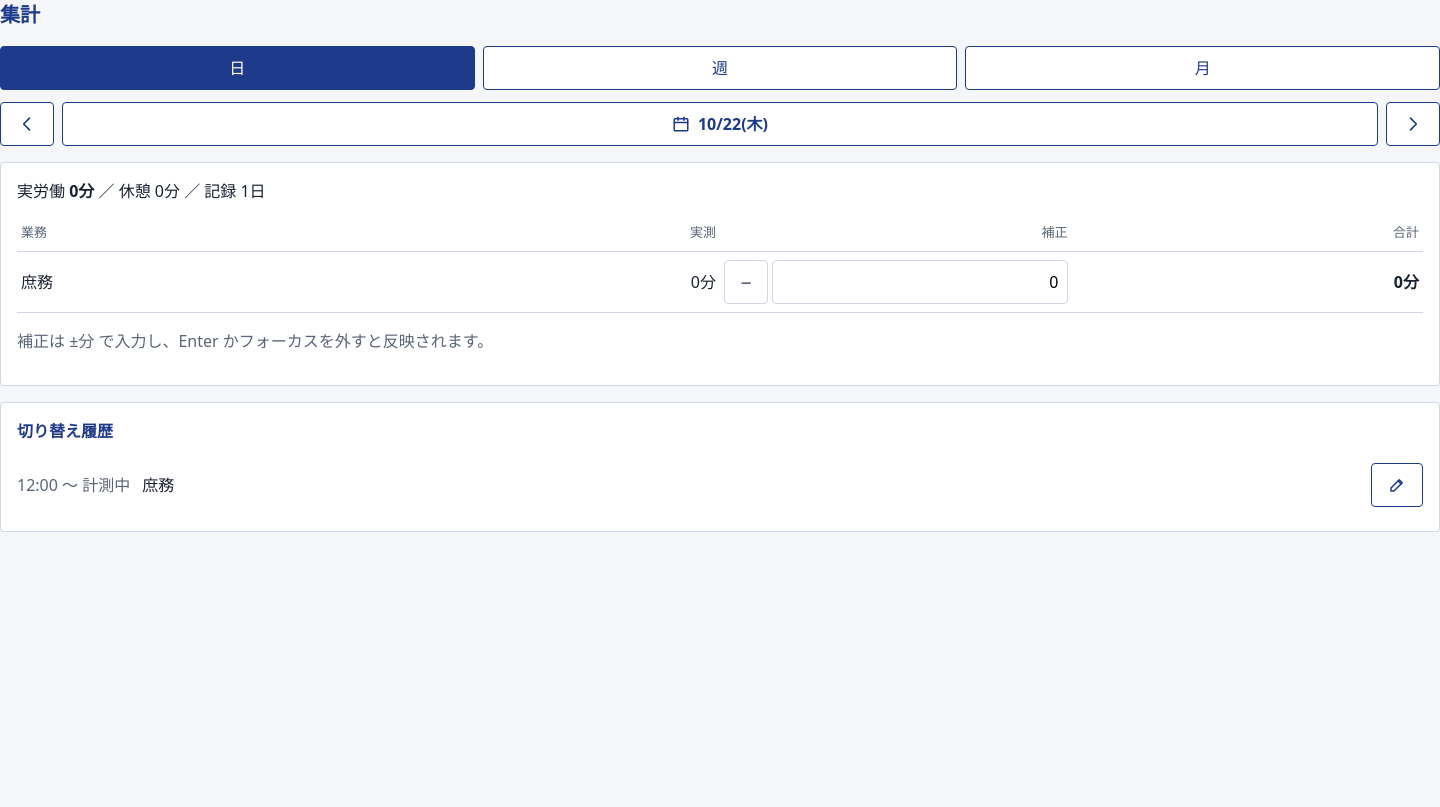
Test: SummaryScreen › カレンダー › 今日の月では「次の月」を押せず、「前の月」で月が変わる
The image size is (1440, 807).
What coordinates should you click on to do the following:
click the button "10/22(木)"
I would click on:
 (720, 124)
Its box is [62,102,1378,146].
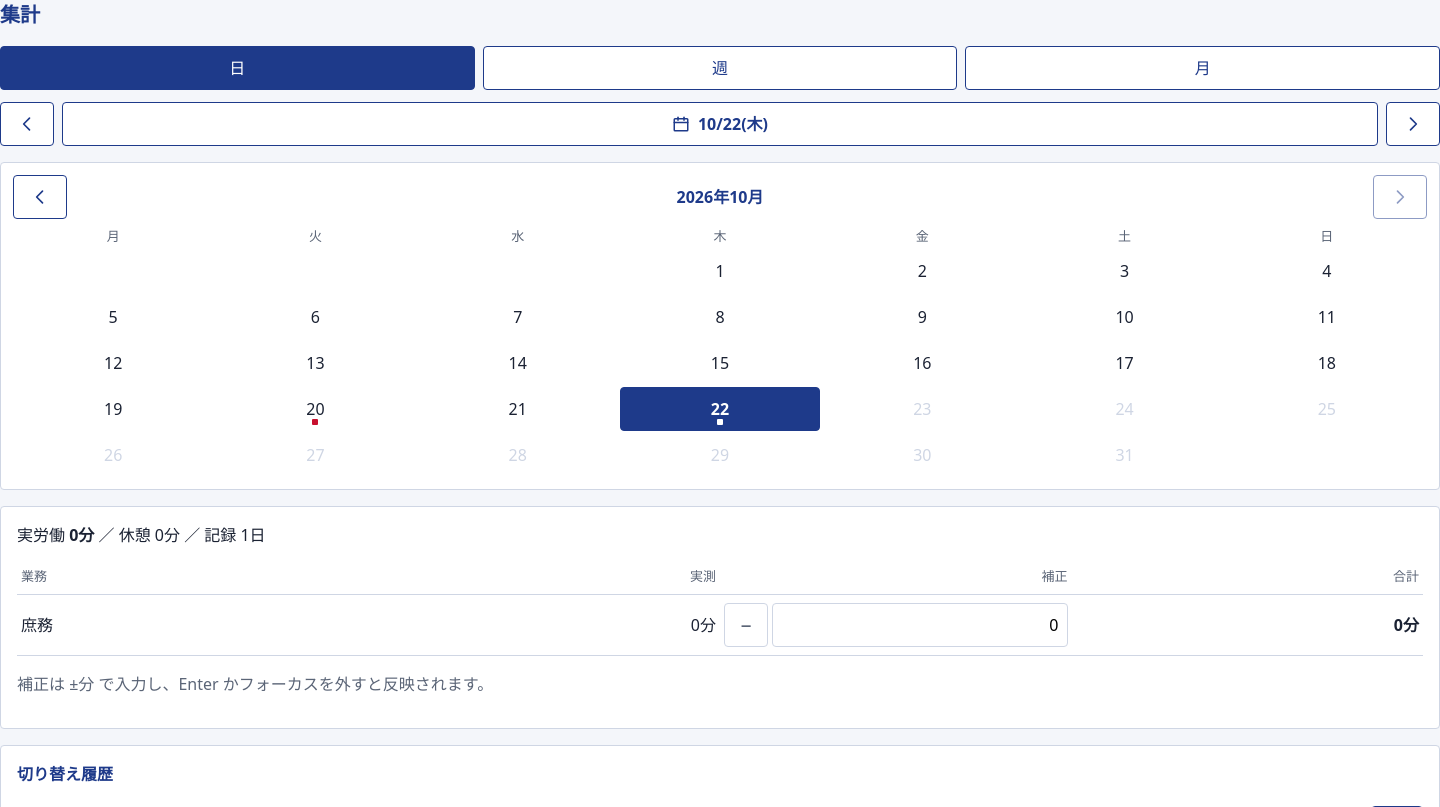
Result: the button named "次の月" is disabled at [1373,175,1427,219]
What coordinates should you click on to do the following:
click the button named "前の月"
I would click on:
 (40, 197)
Its box is [13,175,67,219].
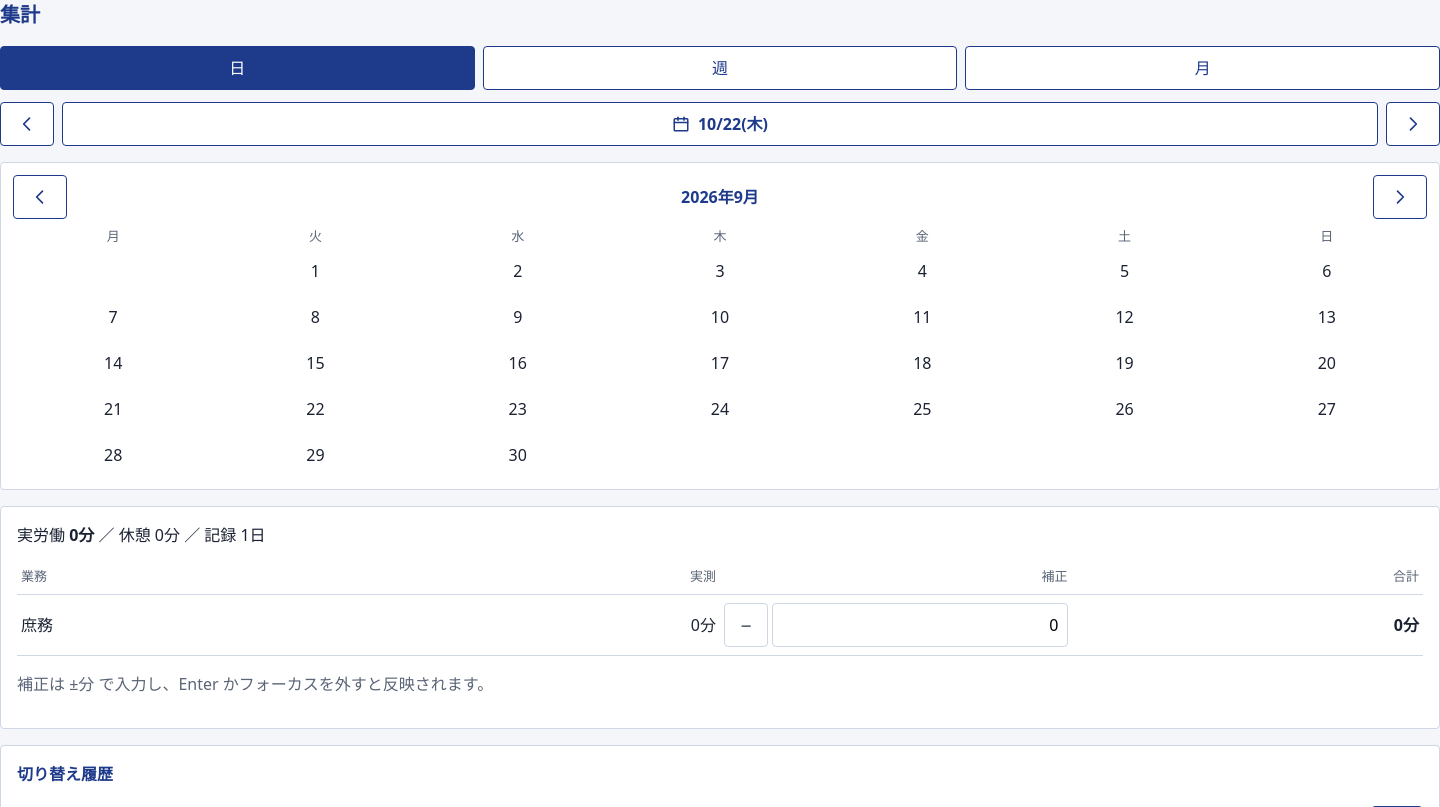
Result: the button named "次の月" is enabled at [1373,175,1427,219]
